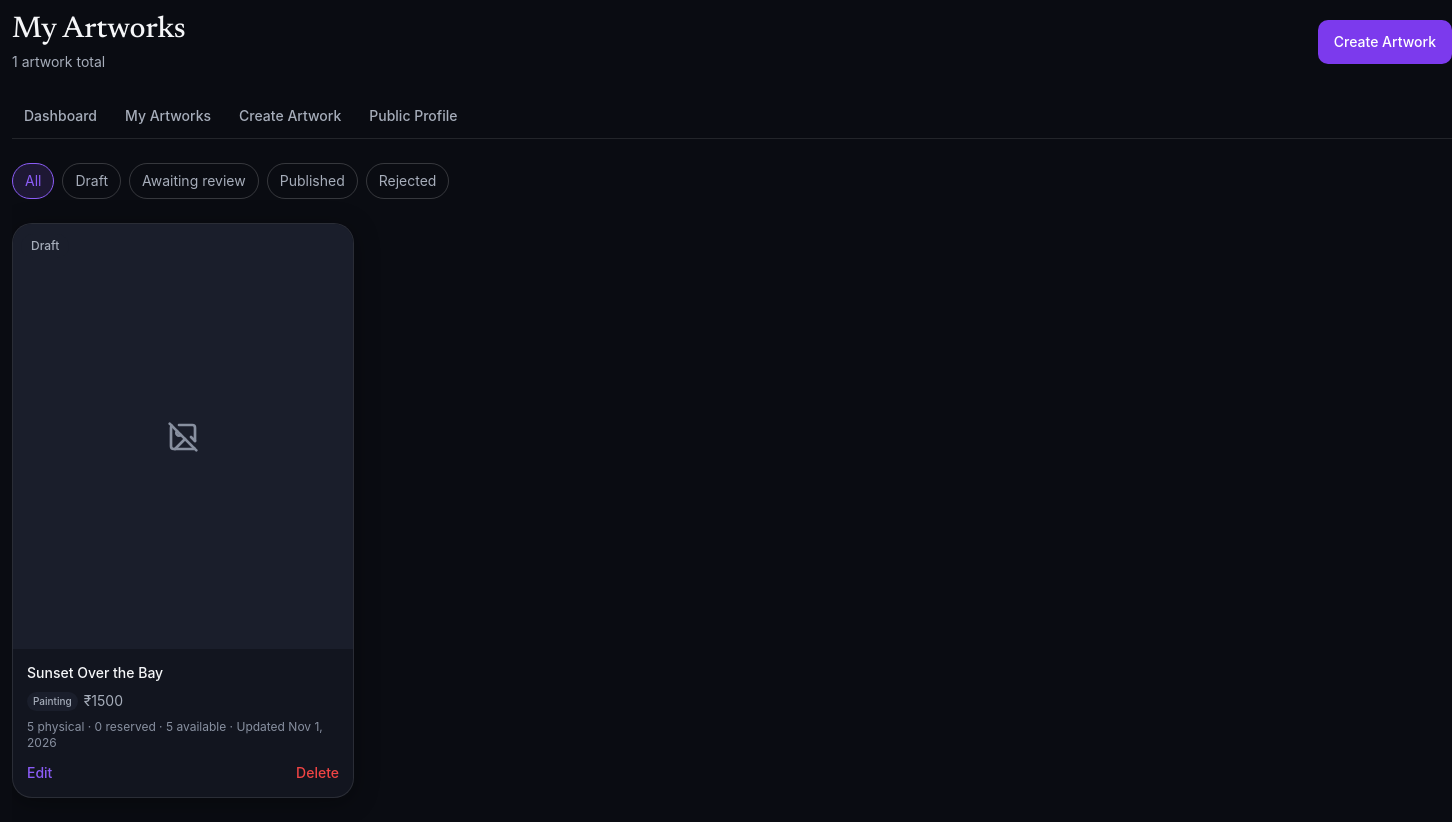
it: ArtworkListPage › shows an honest "no artworks match this filter" state rather than a blank grid
Step 1. Click the button "Published" → (312, 181), box [267, 163, 358, 199]
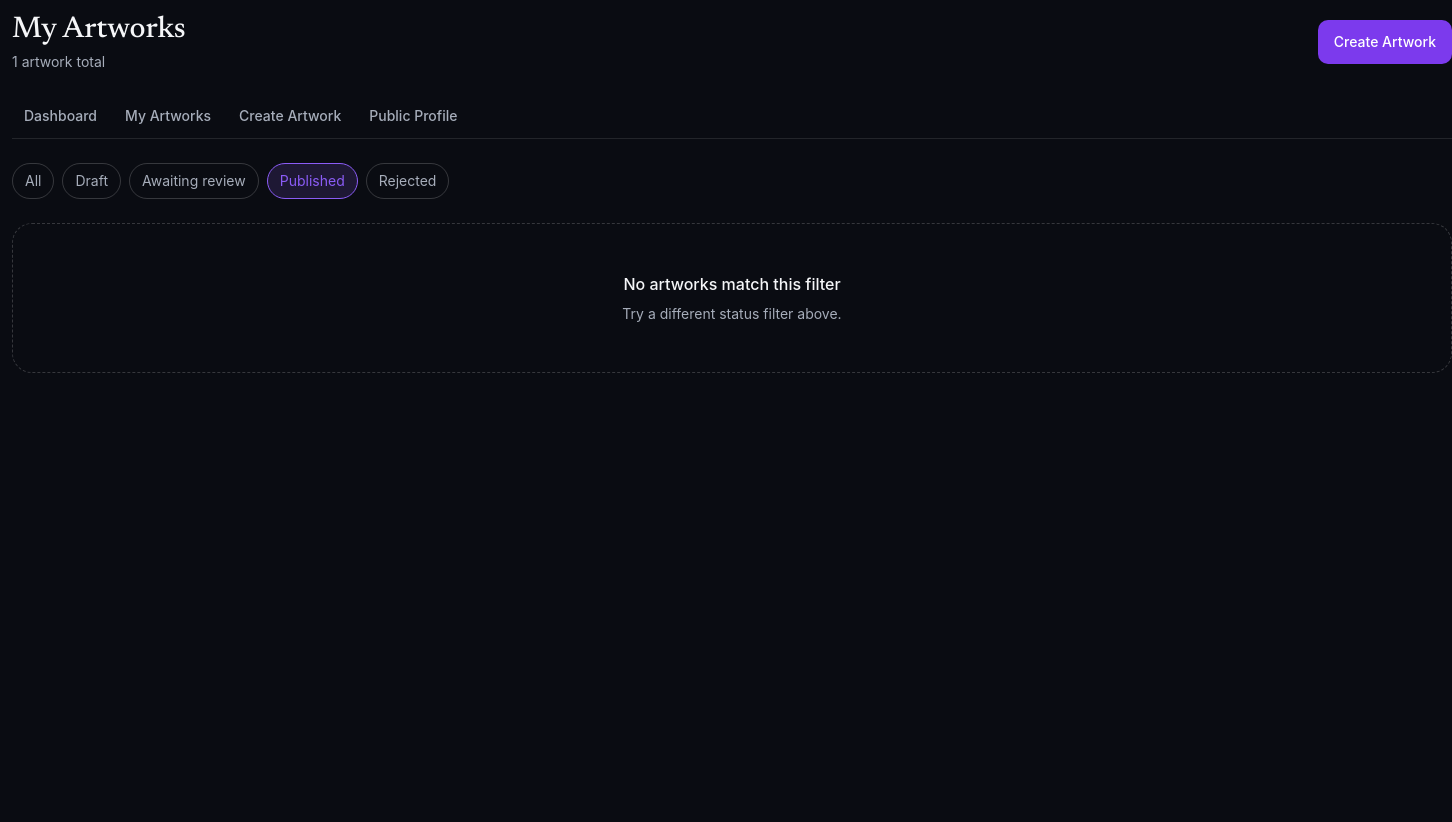
Check: the text "No artworks match this filter" is shown, box [623, 272, 841, 296]
